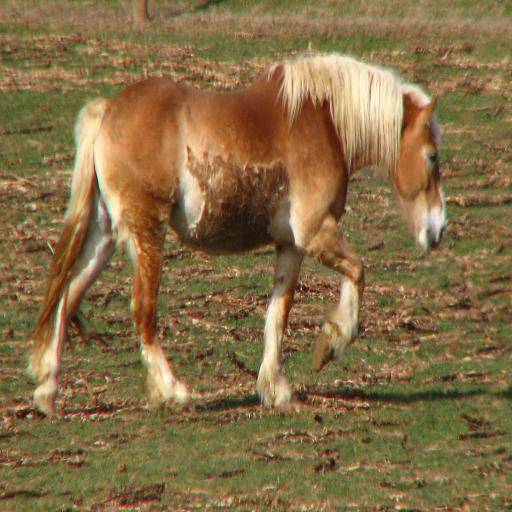Horse: (24, 51, 446, 414)
